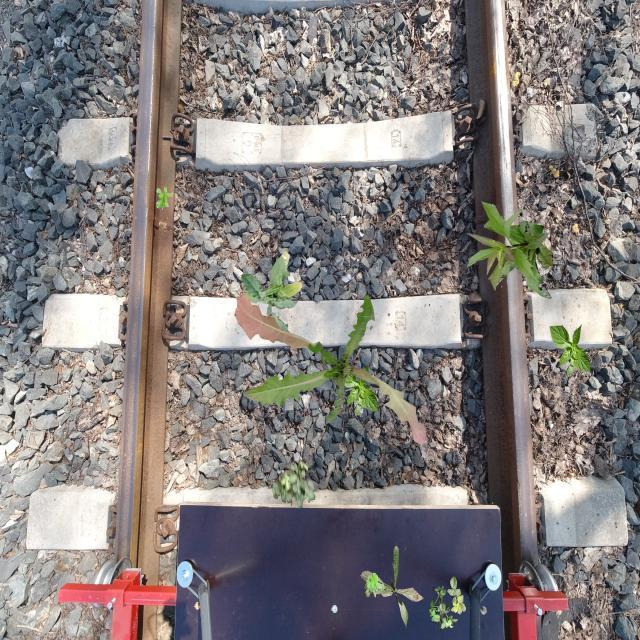Plant: (235, 294, 428, 446), (465, 201, 554, 298), (241, 251, 304, 344), (360, 546, 424, 630), (272, 459, 316, 509), (337, 363, 378, 416), (549, 323, 590, 376), (429, 577, 466, 632), (365, 573, 386, 598), (156, 186, 174, 210)
